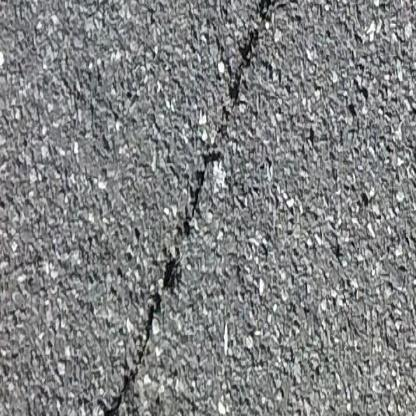Cracks: (90, 0, 315, 416)
